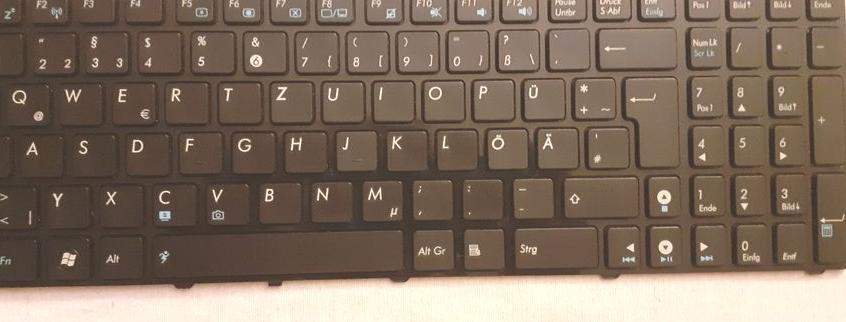0: (444, 27, 489, 71)
1: (1, 32, 25, 76)
2: (30, 31, 77, 75)
3: (81, 29, 129, 74)
4: (135, 29, 182, 73)
5: (188, 28, 235, 73)
6: (240, 28, 287, 73)
7: (293, 28, 339, 73)
8: (343, 28, 389, 73)
9: (394, 27, 439, 72)
a: (16, 133, 63, 177)
accent: (545, 25, 589, 69)
ae: (534, 125, 578, 168)
alt-left: (96, 233, 143, 281)
altgr-right: (410, 227, 454, 270)
b: (256, 181, 302, 224)
c: (149, 182, 197, 227)
caret: (1, 34, 23, 76)
comma: (410, 178, 452, 221)
d: (123, 131, 170, 176)
del: (595, 24, 675, 69)
e: (109, 80, 157, 126)
enter: (621, 73, 677, 166)
f: (177, 130, 222, 174)
g: (229, 129, 275, 174)
h: (281, 128, 327, 173)
hash: (584, 124, 627, 168)
i: (370, 78, 414, 122)
j: (333, 128, 376, 171)
k: (384, 128, 428, 171)
keyboard: (1, 1, 846, 296)
l: (434, 126, 477, 171)
less: (1, 185, 38, 232)
m: (359, 178, 403, 223)
minus: (510, 177, 554, 218)
n: (308, 180, 353, 222)
o: (419, 77, 464, 121)
oe: (484, 126, 527, 170)
p: (469, 76, 514, 120)
plus: (570, 74, 615, 119)
point: (461, 177, 503, 219)
q: (1, 82, 51, 127)
r: (162, 79, 209, 124)
s: (69, 132, 116, 178)
shift-left: (1, 187, 31, 231)
shift-lock: (1, 133, 43, 179)
shift-right: (562, 174, 637, 217)
space: (151, 228, 403, 278)
ss: (494, 26, 539, 71)
strg-left: (1, 239, 31, 287)
strg-right: (512, 225, 597, 269)
t: (215, 79, 262, 123)
tab: (1, 83, 37, 128)
u: (318, 78, 363, 123)
ue: (519, 75, 565, 120)
v: (204, 182, 250, 225)
w: (56, 81, 103, 125)
x: (97, 183, 143, 227)
y: (44, 186, 89, 228)
z: (268, 78, 313, 123)
